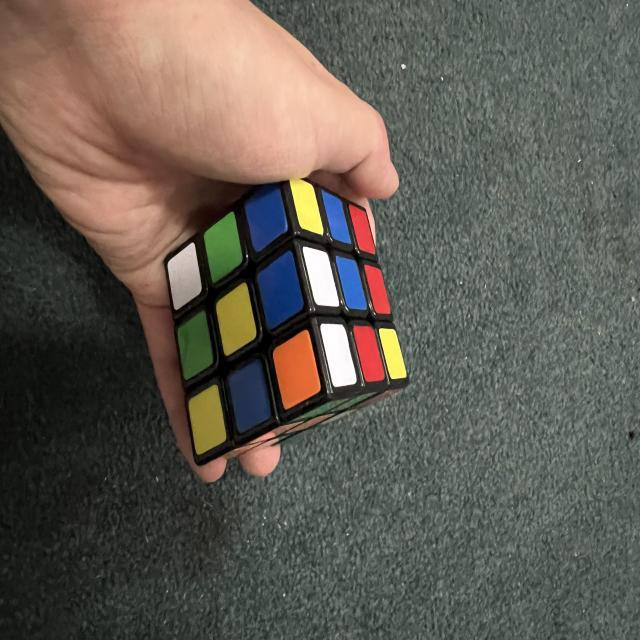blue: (252, 250, 308, 329), (240, 182, 292, 252), (225, 361, 274, 434), (334, 252, 368, 314), (320, 187, 352, 248)
center: (211, 282, 260, 356), (334, 252, 368, 314)
green: (199, 211, 247, 283), (172, 309, 217, 380)
orange: (268, 329, 325, 410)
red: (351, 322, 386, 385), (347, 201, 377, 258), (363, 261, 392, 318)
white: (163, 242, 205, 311), (318, 319, 359, 389), (301, 242, 340, 311)
yellow: (210, 281, 261, 356), (184, 383, 230, 455), (288, 175, 325, 239), (376, 324, 408, 382)
